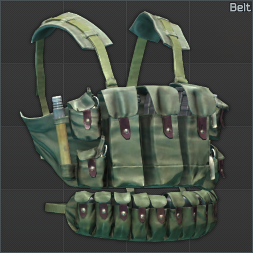Belt-A + Belt-B gear rig: (0, 0, 253, 253)
